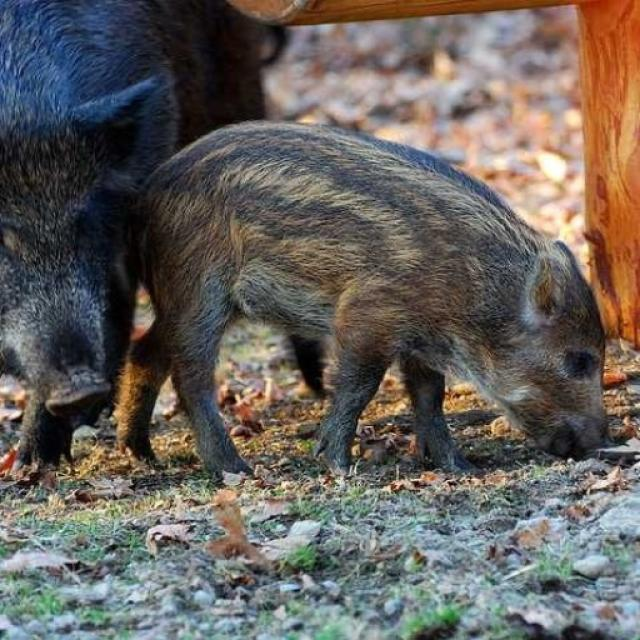pig: (118, 83, 640, 572)
